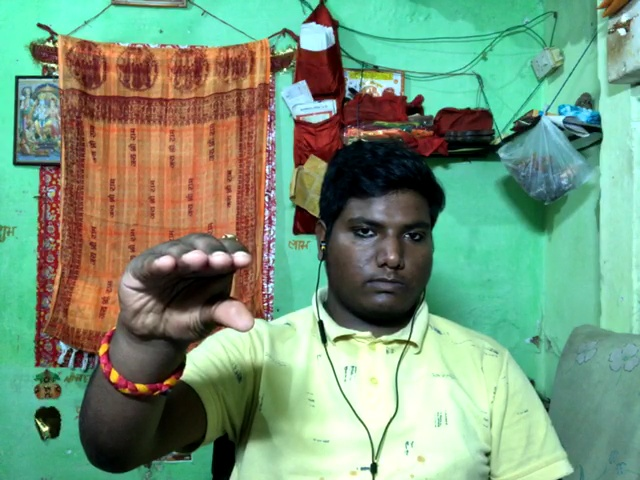No: (94, 220, 280, 363)
